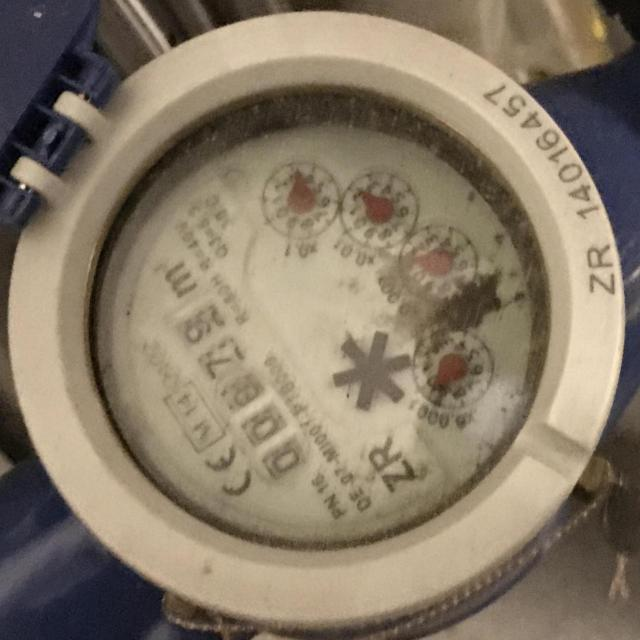gaz_meter: (89, 120, 546, 543)
indication: (162, 290, 322, 492)
